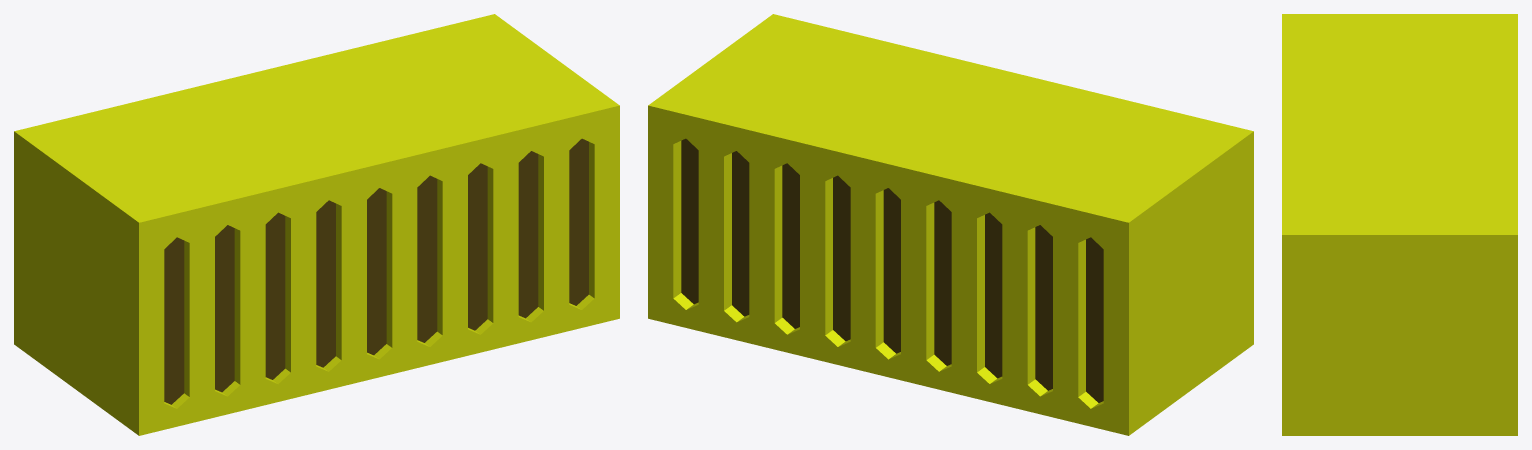
File: container2.FBX
The picture shows the model from 3 angles, left to right: view 1: azimuth 30°, elevation 25°; view 2: azimuth 150°, elevation 25°; view 3: azimuth 270°, elevation 25°; orthographic projection. The views are drawn at different scales.
Parts seen in each view (by area): view 1: Box001; view 2: Box001; view 3: Box001.
Part boxes in pixels (x1,y1,x2,y2): Box001: (14, 14, 619, 435); Box001: (648, 14, 1253, 435); Box001: (1282, 14, 1517, 435).
Size of the model in its own units: 114 by 48.16 by 51.2.
